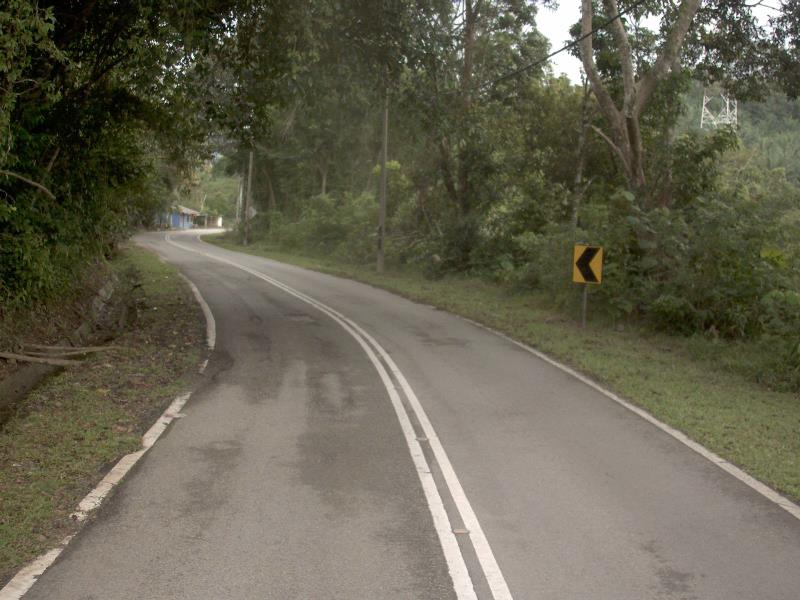traffic_sign: (565, 235, 609, 292)
